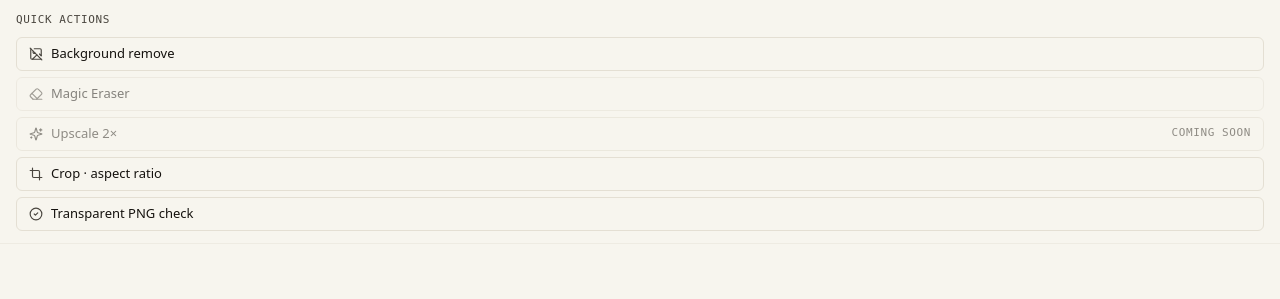
Test case: QuickActions — error state › mutation fail → inline error mesaj görünür
The width and height of the screenshot is (1280, 299).
Click the button "Transparent PNG check".
click(122, 213)  # box [16,196,1264,230]
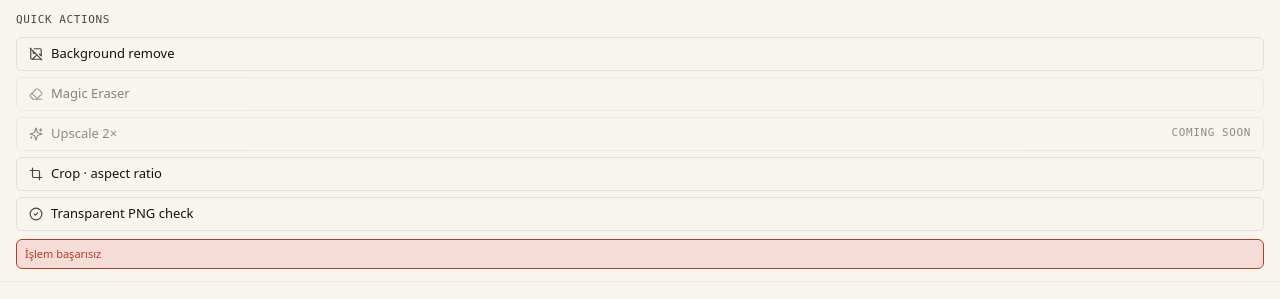
Expected: the message "İşlem başarısız" is shown, [16,238,1264,269]
Expected: the message reads "İşlem başarısız", [25,246,101,260]
